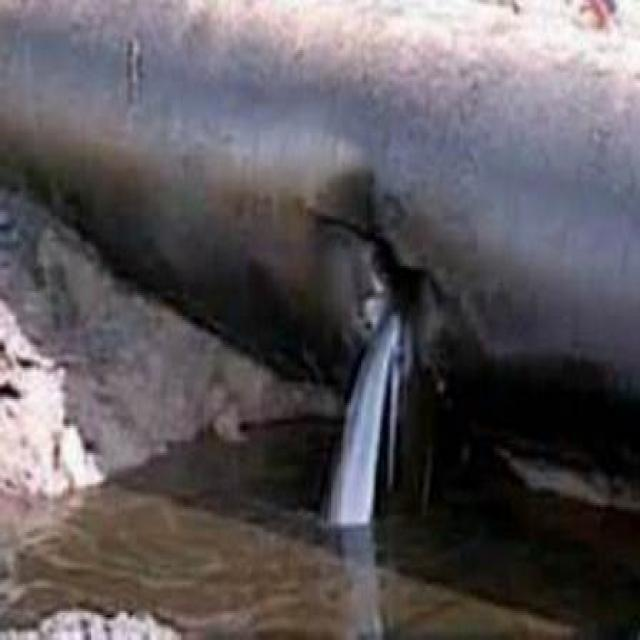leak: (329, 312, 402, 528)
